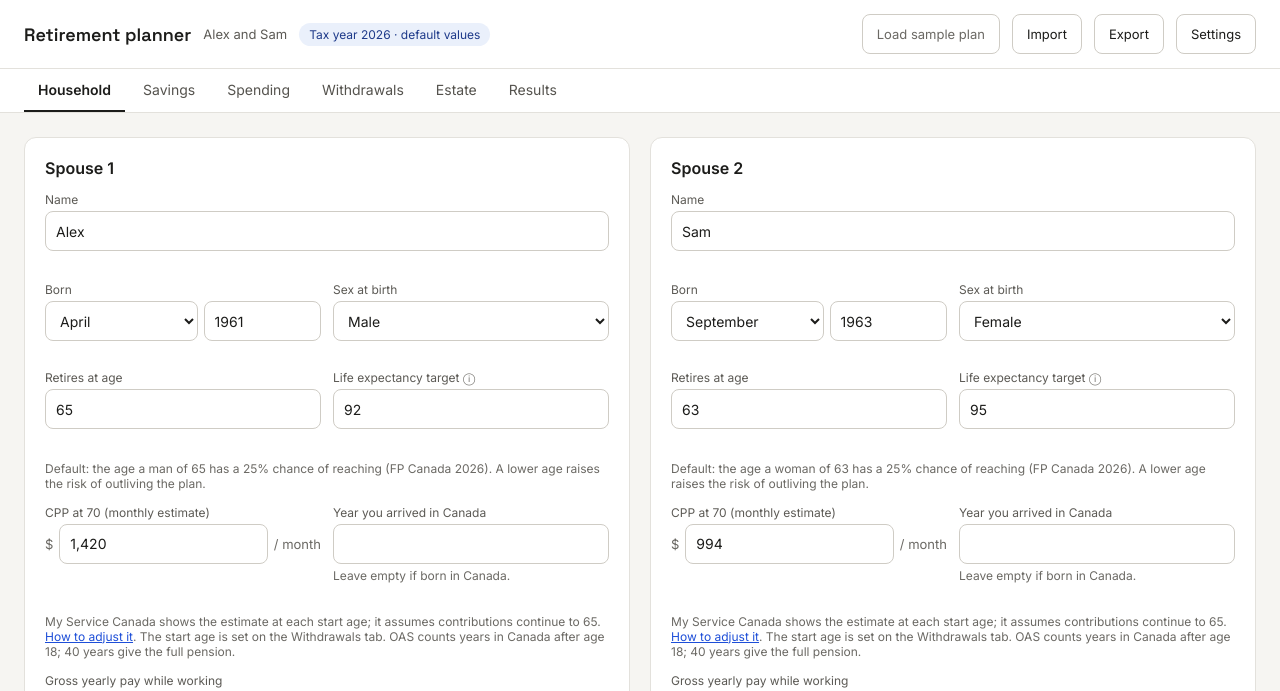
Test: every bundled default validated › shows no config notice and nothing left to check
Step 1. Click the button "Settings" → (1216,34), box [1176,14,1256,54]
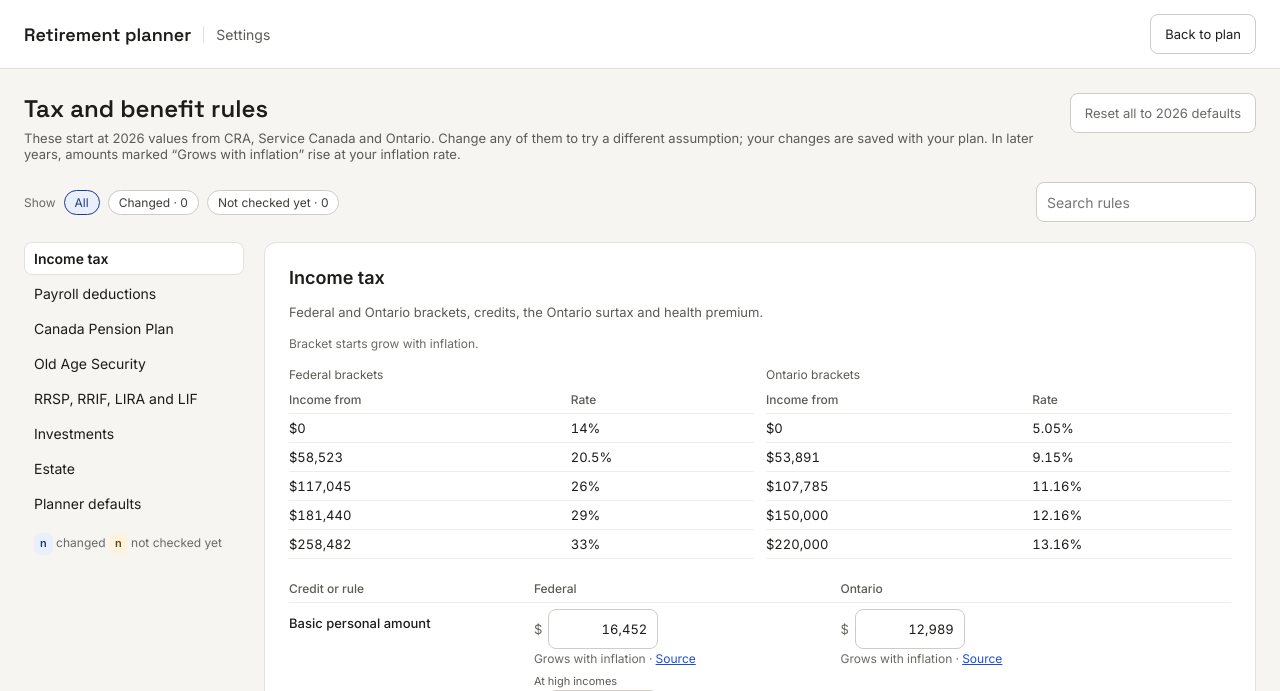
Check: the button "Not checked yet · 0" is shown, box [207,190,340,214]
